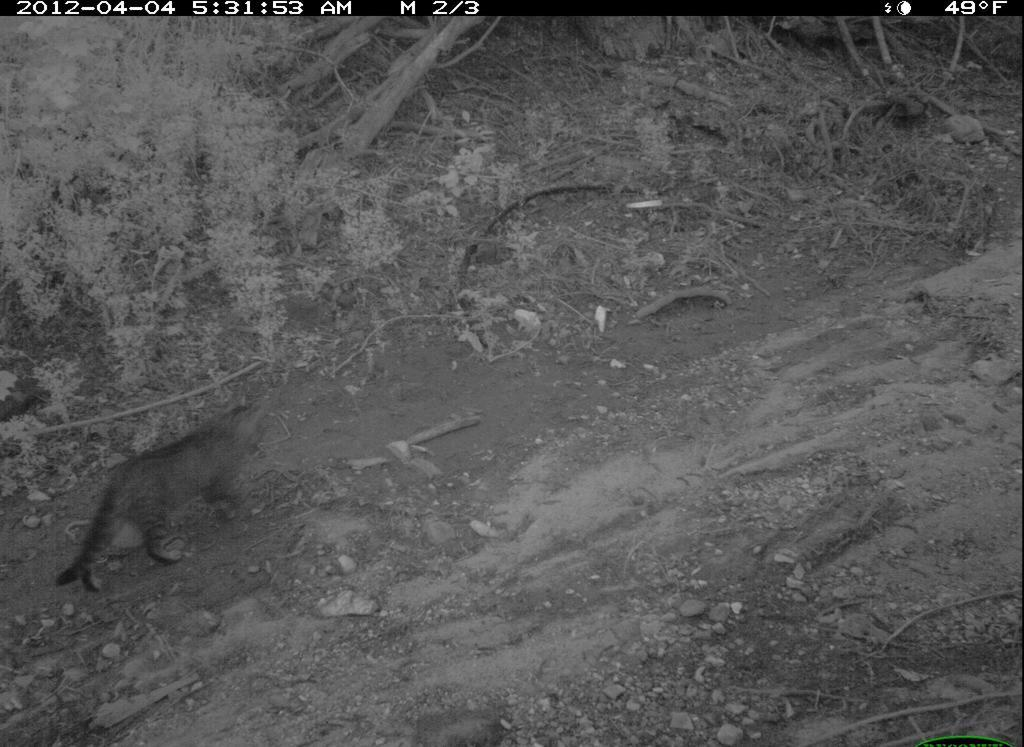cat: (58, 402, 286, 598)
